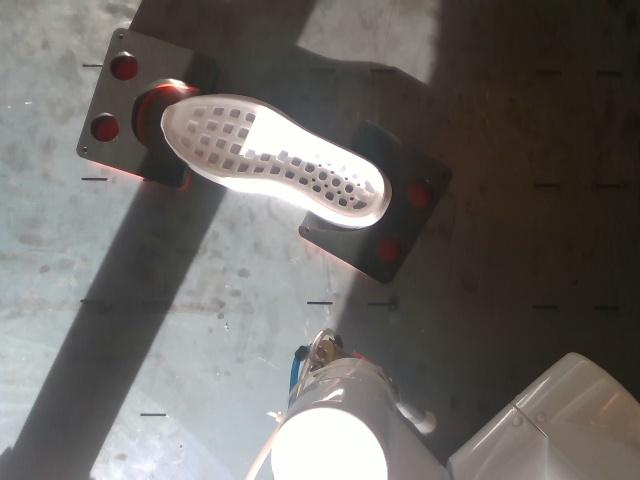shoes: (162, 98, 385, 218)
